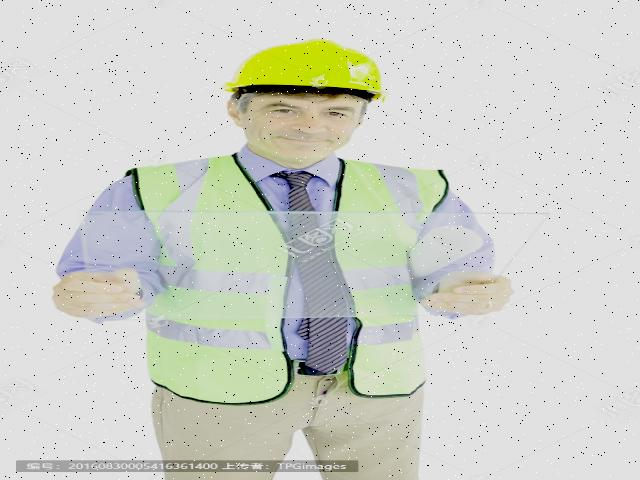Helmet: (217, 34, 397, 109)
